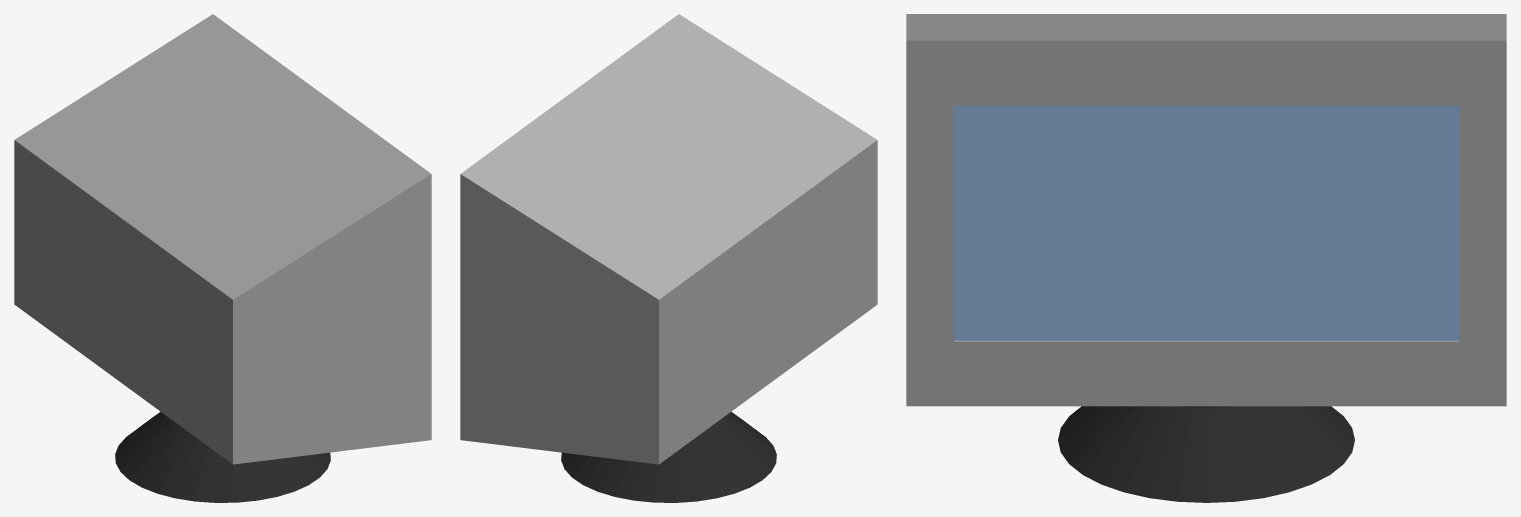
File: computer.fbx
3 renders of one model, left to right at view 1: azimuth 30°, elevation 25°; view 2: azimuth 150°, elevation 25°; view 3: azimuth 270°, elevation 25°, orthographic. The views are drawn at different scales.
Parts seen in each view (by area): view 1: Cube, Cylinder; view 2: Cube, Cylinder; view 3: Plane, Cube, Cylinder.
Part boxes in pixels (box(x1,y1,x2,y2)): Cube: box(14, 14, 431, 464); Cylinder: box(115, 411, 330, 502); Cube: box(460, 14, 877, 464); Cylinder: box(561, 411, 776, 502); Plane: box(954, 105, 1458, 340); Cube: box(906, 14, 1506, 406); Cylinder: box(1058, 406, 1354, 502).
Bounding box in the file's own units: 305 × 497 × 581.
